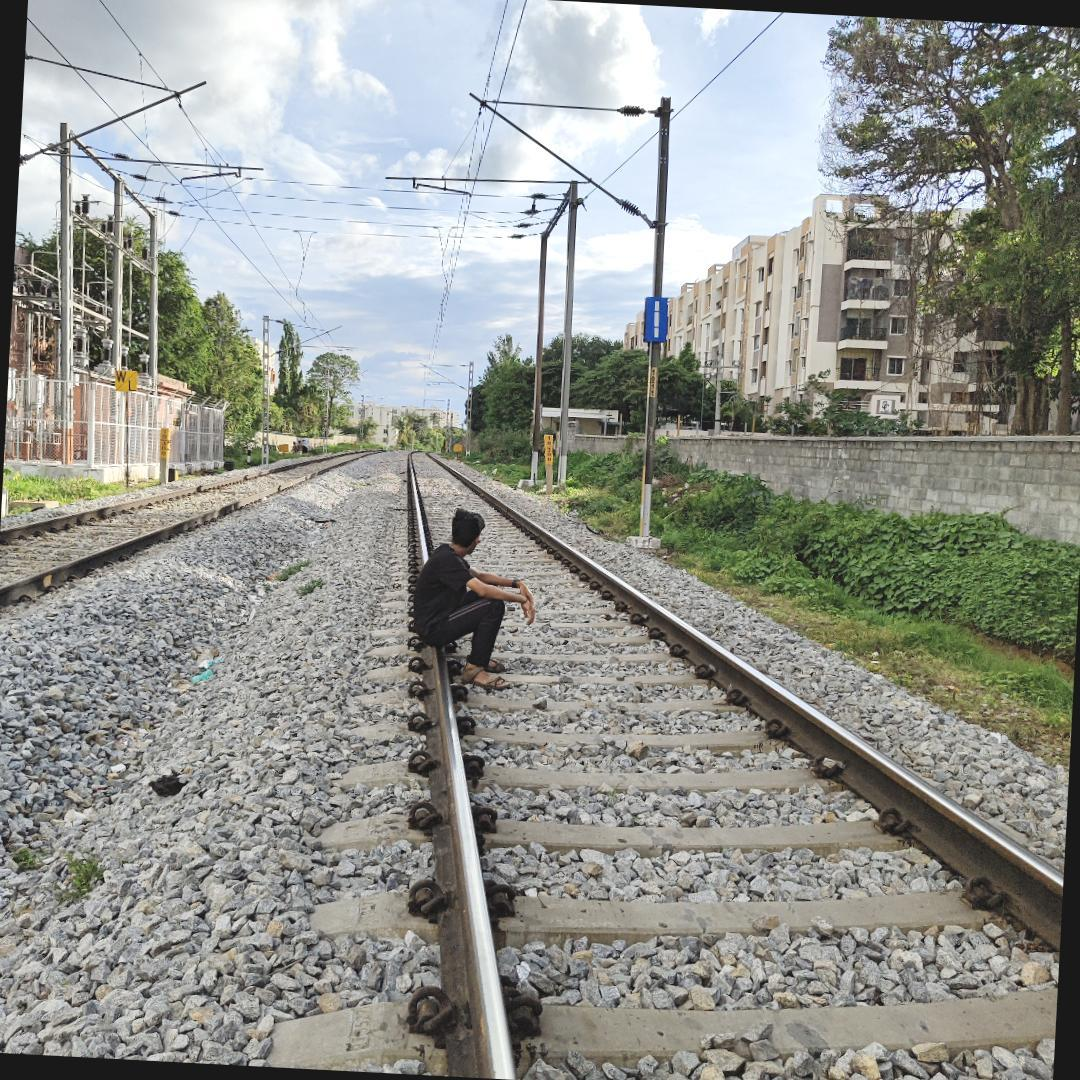sitting: (394, 492, 539, 686)
